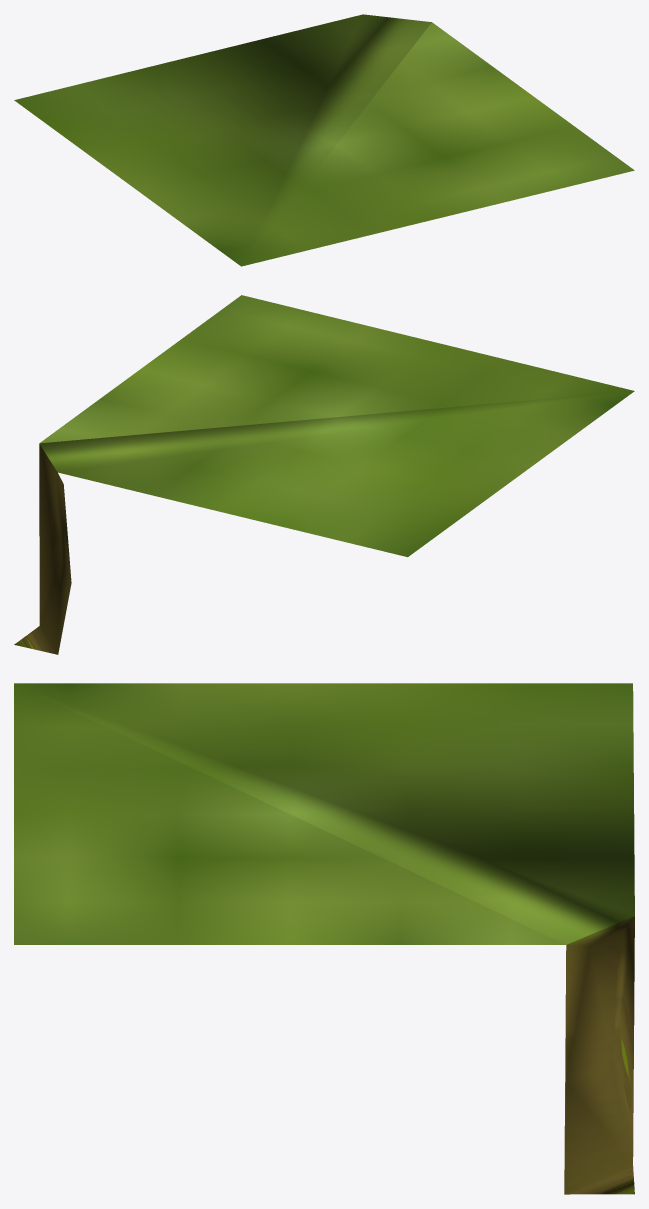
The model's file is atom_three_grass.glb.
3 renders of one model, top to bottom at view 1: azimuth 30°, elevation 25°; view 2: azimuth 150°, elevation 25°; view 3: azimuth 270°, elevation 25°, orthographic. The views are drawn at different scales.
Parts seen in each view (by area): view 1: land_three; view 2: land_three; view 3: land_three.
Boxes of the visible parts, x1,y1,x2,y2 form: land_three: (14, 14, 634, 266); land_three: (14, 295, 634, 654); land_three: (14, 683, 634, 1194).
Size of the model in its own units: 2.25 by 1 by 2.26.
Materials: 1 (1 with a texture image).
